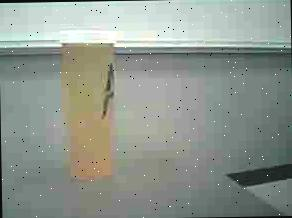Bottle A: (60, 30, 114, 179)
